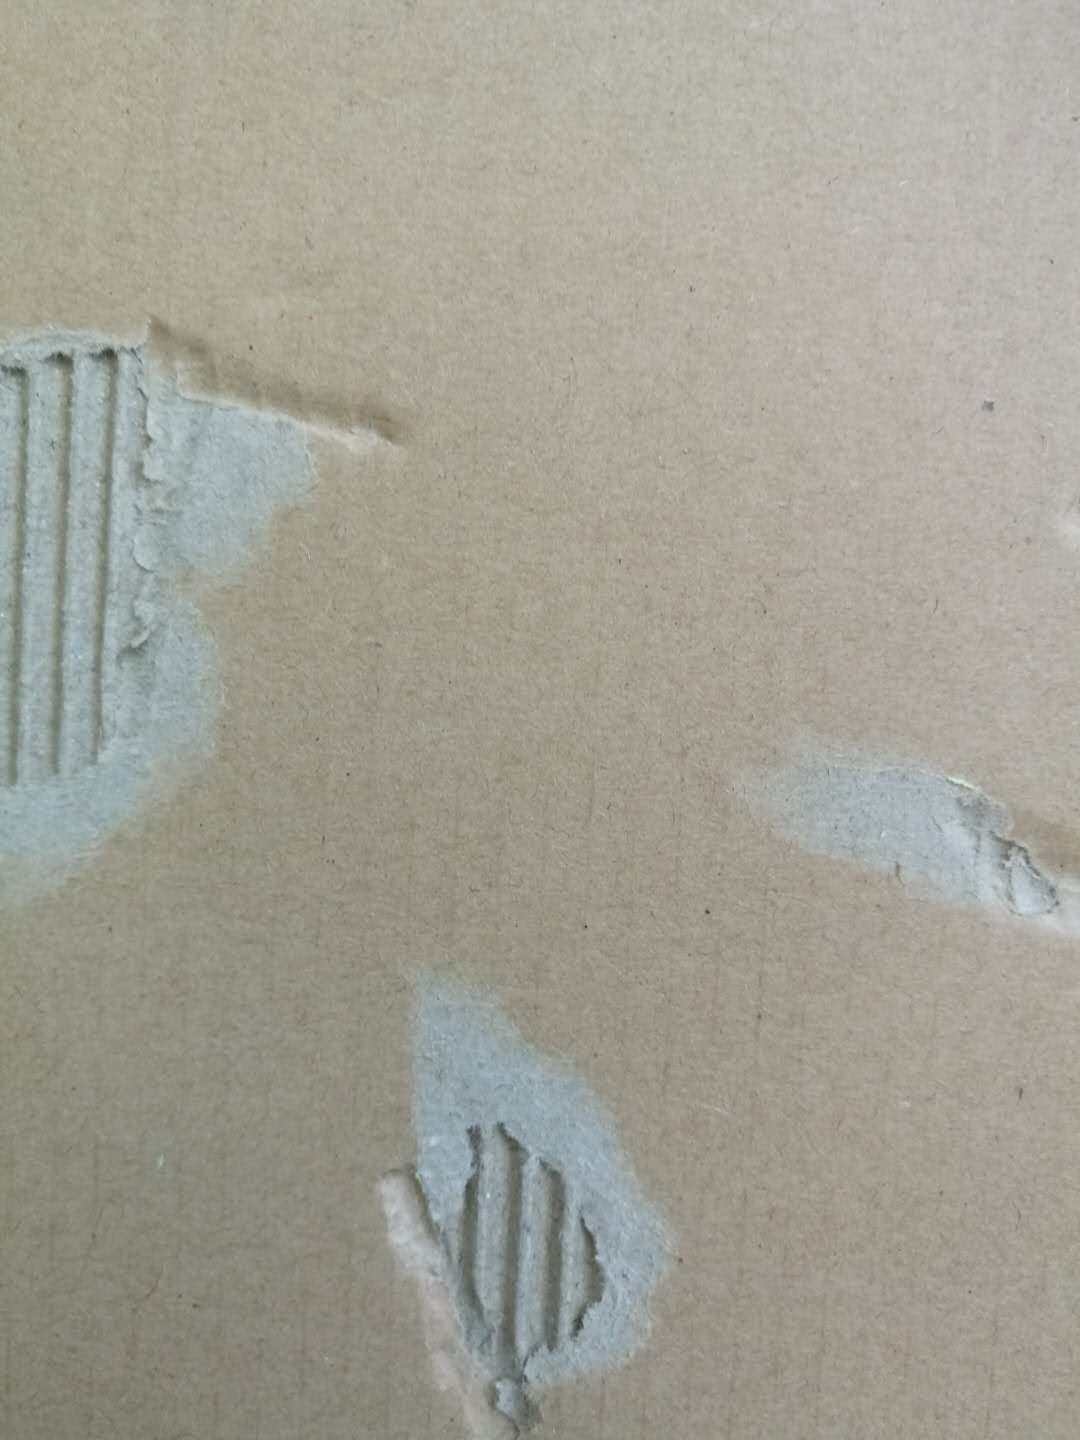defect: (2, 270, 434, 945), (349, 948, 687, 1440), (695, 698, 1080, 960)
